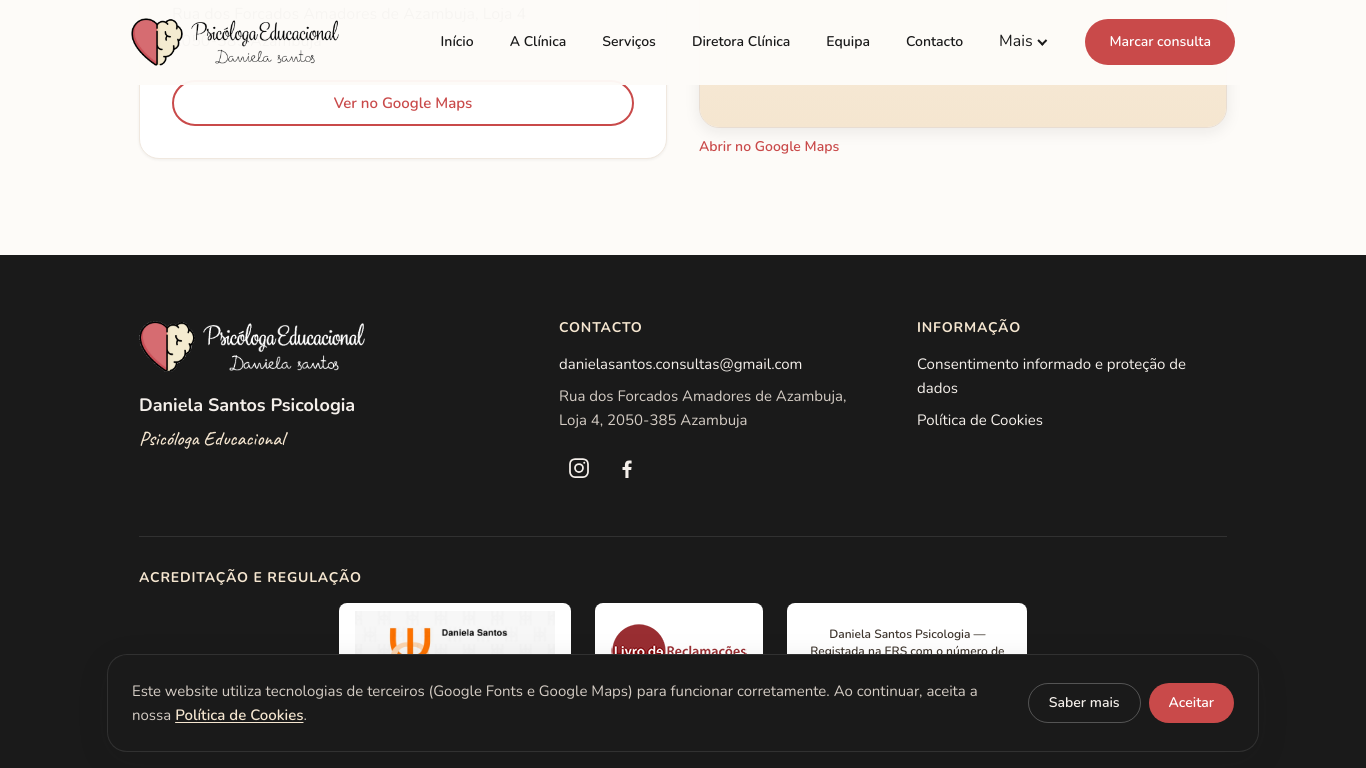
Scenario: Cookies policy page › renders the cookie policy content
This screenshot has width=1366, height=768.
(page scrolled)
Click the link "Política de Cookies" below "Informação".
click(980, 420)  # box [917,410,1043,430]
(page scrolled)
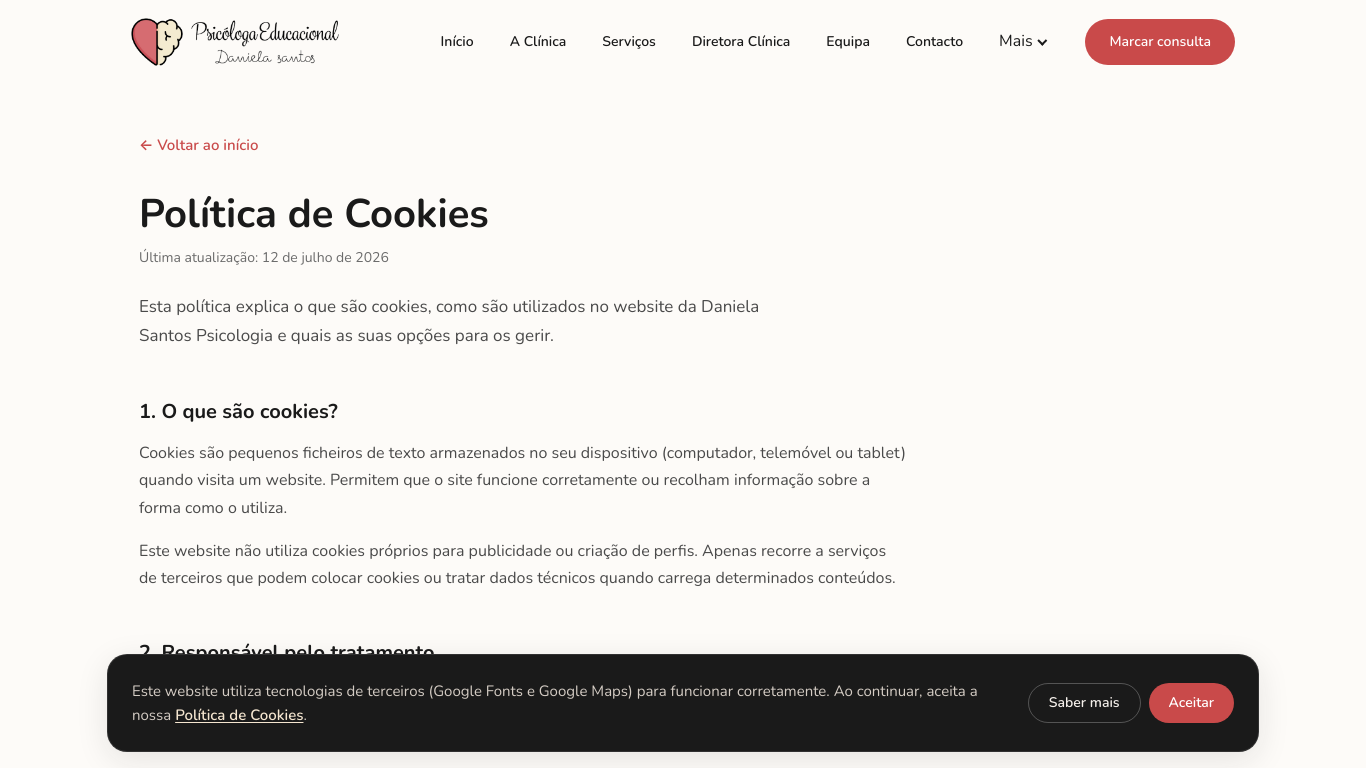
Expected: the heading "Política de Cookies" is shown, [139,187,489,241]
Expected: the link "← Voltar ao início" is shown, [139,135,258,155]
